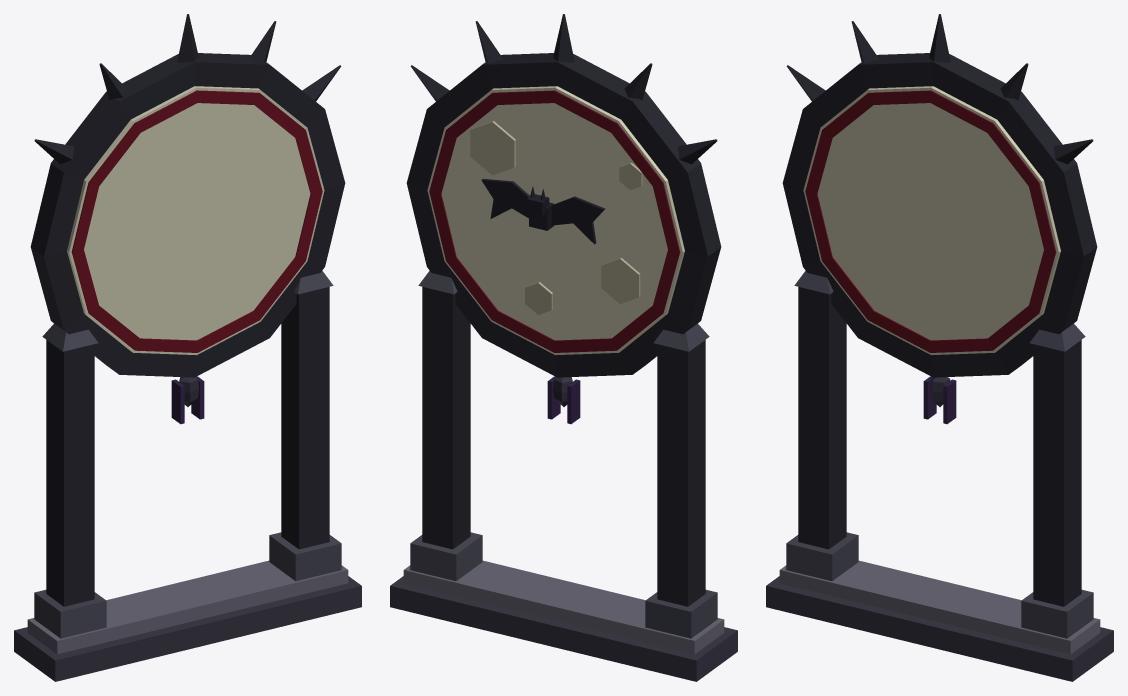
The model's file is Decor_VampireCrypt_Moon.fbx.
The picture shows the model from 3 angles, left to right: view 1: azimuth 30°, elevation 25°; view 2: azimuth 150°, elevation 25°; view 3: azimuth 330°, elevation 25°; orthographic projection.
Visible parts, largest first — view 1: Moon_Body; view 2: Moon_Body; view 3: Moon_Body.
Boxes of the visible parts, bbox=[...] form: Moon_Body: bbox=[14, 14, 361, 681]; Moon_Body: bbox=[390, 14, 737, 681]; Moon_Body: bbox=[766, 14, 1113, 681].
Size of the model in its own units: 12 by 23 by 2.8.
